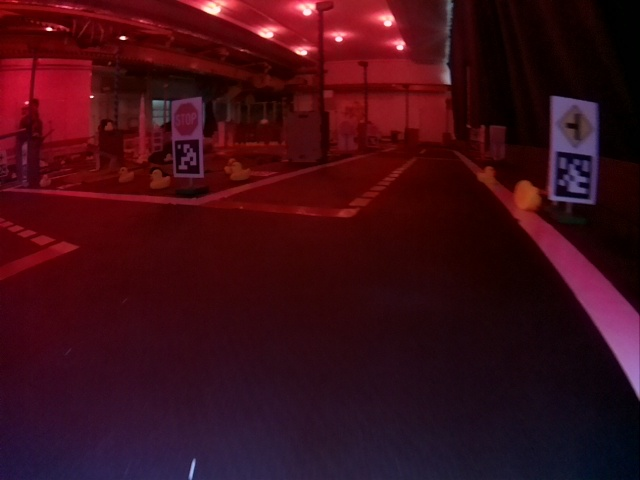Duckie: (514, 182, 541, 211), (150, 169, 170, 189), (231, 162, 250, 181), (477, 166, 497, 182), (117, 167, 134, 183)
Intersection sign: (555, 103, 593, 146)
QR code: (556, 151, 594, 192), (250, 168, 277, 177)
Stop sign: (173, 102, 200, 136)
